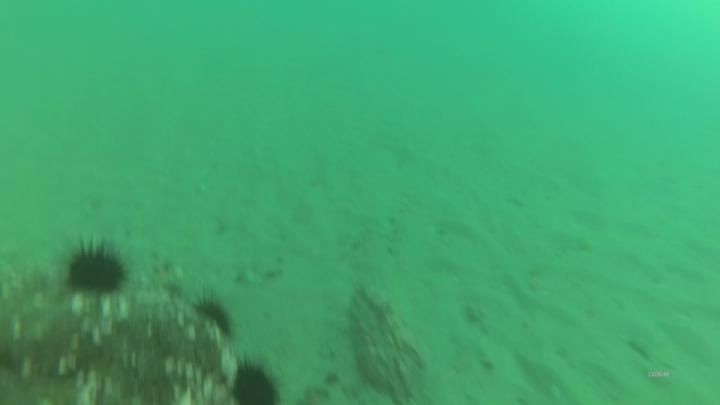echinus: (67, 247, 124, 299), (230, 363, 281, 405), (190, 299, 234, 340)
